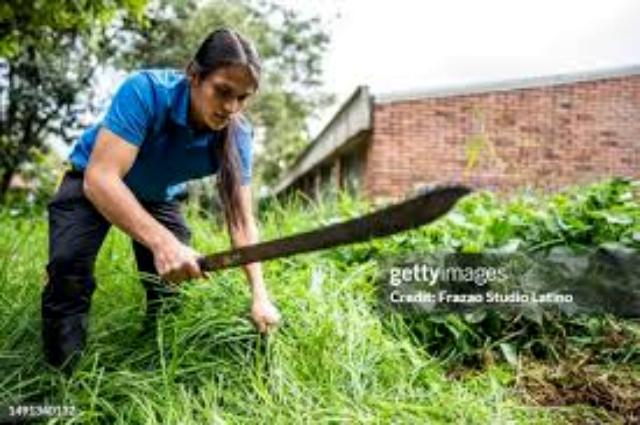long knife: (109, 184, 475, 280)
